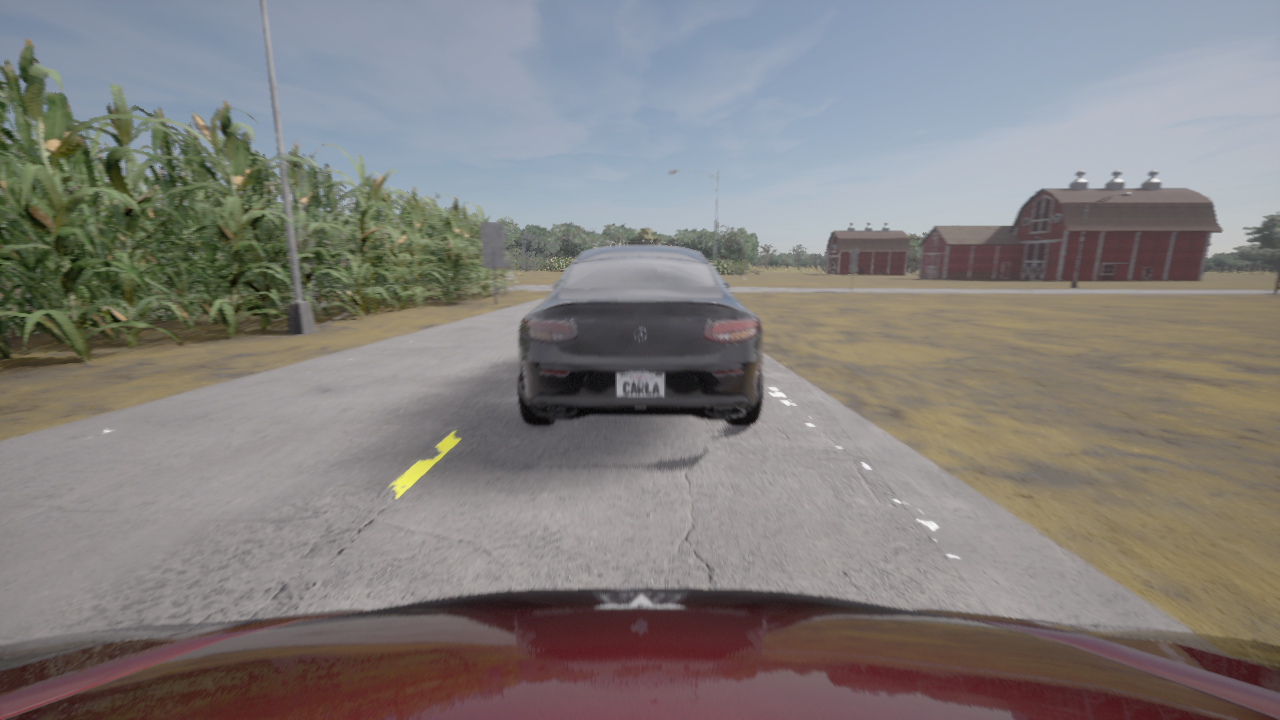cyclist: (0, 588, 1279, 719), (518, 245, 762, 424), (460, 255, 512, 281)
